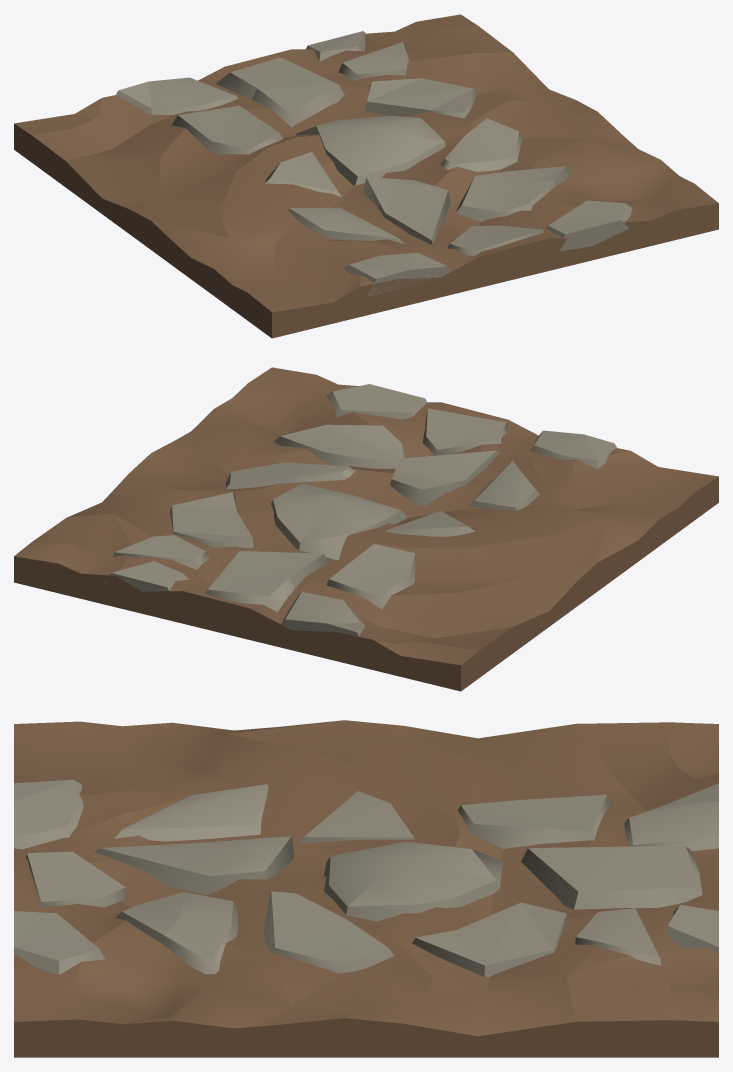
The model's file is Ground_Stone_Path_V.glb.
3 renders of one model, top to bottom at view 1: azimuth 30°, elevation 25°; view 2: azimuth 150°, elevation 25°; view 3: azimuth 270°, elevation 25°, orthographic. The views are drawn at different scales.
Visible parts, largest first — view 1: Ground_Stone_Path_V; view 2: Ground_Stone_Path_V; view 3: Ground_Stone_Path_V.
Boxes of the visible parts, x1=… form: Ground_Stone_Path_V: x1=14, y1=14, x2=718, y2=338; Ground_Stone_Path_V: x1=14, y1=367, x2=718, y2=691; Ground_Stone_Path_V: x1=14, y1=720, x2=718, y2=1057.
Size of the model in its own units: 1.47 by 0.1501 by 1.47.
